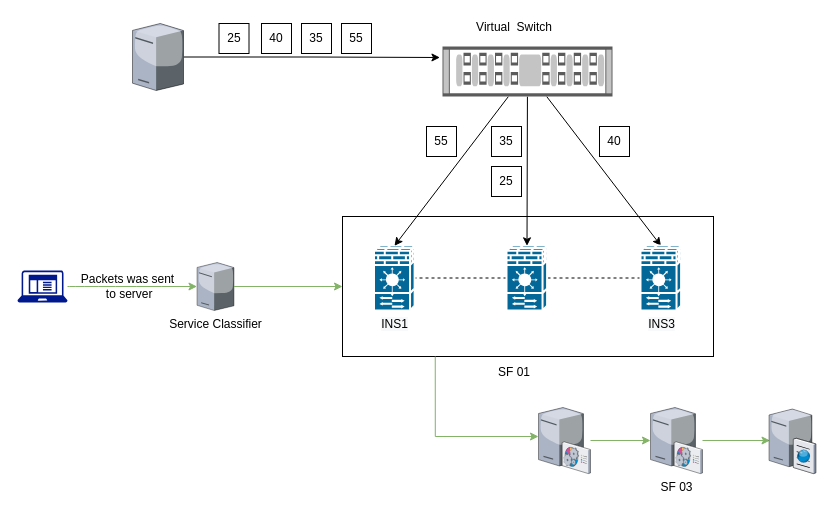
Some shapes in this 839 by 521 pixel diagram are drawn without their labels. Here are the shapes that lost their labels. From the top down, the centre of each, then its label:
(x=157, y=56): SDN Controller
(x=42, y=286): Source
(x=526, y=277): INS2
(x=564, y=440): SF 02
(x=791, y=440): Destination
